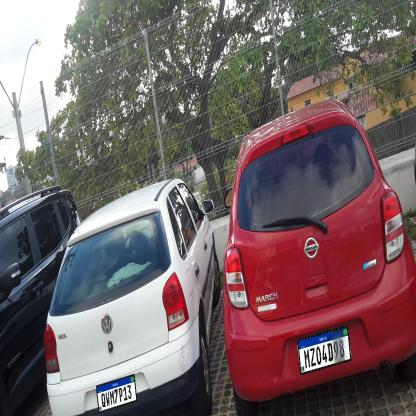PlacaM: (298, 325, 352, 375), (96, 374, 137, 413)
